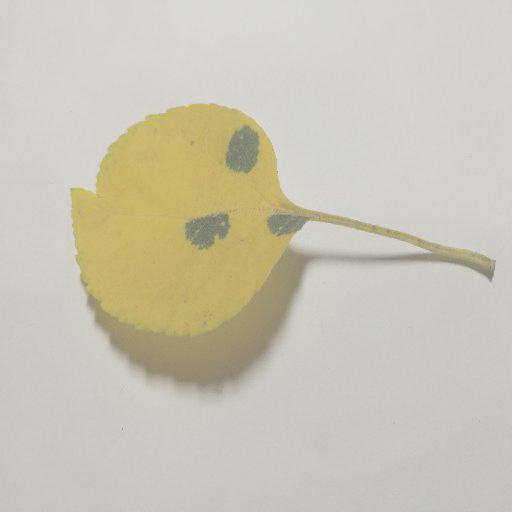Brown_Spot: (218, 133, 259, 172), (186, 214, 228, 243), (266, 214, 298, 239)
